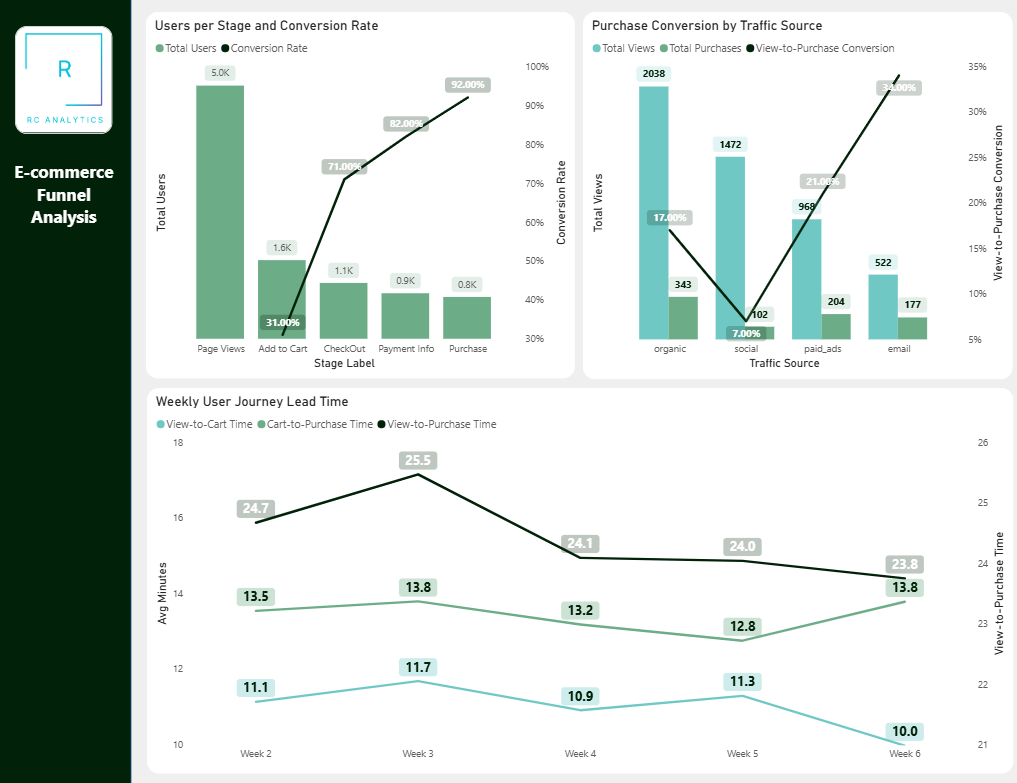

Layout of this report page (visuals, bound fields, positions):
{"tool":"powerbi","page":{"name":"Funnel Journey","canvas":[1280,1000],"ordinal":0},"visuals":[{"type":"lineStackedColumnComboChart","title":"Users per Stage and Conversion Rate","fields":{"Category":["e_commerce_project funnel_rate.Stage Label"],"Y2":["Sum(e_commerce_project funnel_rate.conversion_rate)"],"Y":["Sum(e_commerce_project funnel_rate.users)"]},"box":[187.8,17.4,536.1,457.8],"z":0},{"type":"shape","box":[0,0,169.3,1000.4],"z":1000},{"type":"textbox","box":[11.2,198,146.9,96.9],"z":2000},{"type":"image","box":[23.5,34.7,122.4,134.7],"z":3000},{"type":"lineClusteredColumnComboChart","title":"Purchase Conversion by Traffic Source","fields":{"Category":["e_commerce_project funnel_by_source.traffic_source"],"Y":["Sum(e_commerce_project funnel_by_source.views)","Sum(e_commerce_project funnel_by_source.purchases)"],"Y2":["Sum(e_commerce_project funnel_by_source.purchase_conversion_rate)"]},"box":[734.3,17.5,536.6,458.6],"z":4000},{"type":"lineChart","title":"Weekly User Journey Lead Time","fields":{"Y":["Avg(e_commerce_project user_journey.avg_view_to_cart)","Avg(e_commerce_project user_journey.avg_cart_to_purchase)"],"Category":["e_commerce_project user_journey.Week_Num"],"Y2":["Avg(e_commerce_project user_journey.avg_total_journey)"]},"box":[188.3,487.2,1083.3,482],"z":5000}]}

Visuals, with their boxes in screenshot pixels (x1, y1, x2, y2), scaled from the page's 1280x1000 canvas onto the 1017x783 screenshot:
"Users per Stage and Conversion Rate" lineStackedColumnComboChart: (x1=149, y1=14, x2=575, y2=372)
shape: (x1=0, y1=0, x2=135, y2=782)
textbox: (x1=9, y1=155, x2=126, y2=231)
image: (x1=19, y1=27, x2=116, y2=133)
"Purchase Conversion by Traffic Source" lineClusteredColumnComboChart: (x1=583, y1=14, x2=1010, y2=373)
"Weekly User Journey Lead Time" lineChart: (x1=150, y1=381, x2=1010, y2=759)
